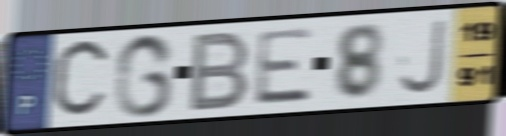8: (333, 20, 386, 102)
B: (185, 28, 253, 115)
C: (48, 34, 114, 125)
E: (251, 25, 317, 108)
G: (111, 31, 177, 120)
J: (396, 16, 448, 98)
